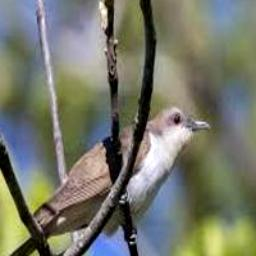Cuckoo: (0, 105, 210, 256)
